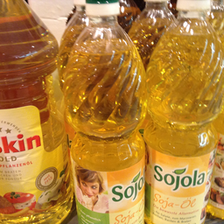oil: (62, 1, 146, 223), (143, 1, 224, 223), (1, 1, 73, 224)
